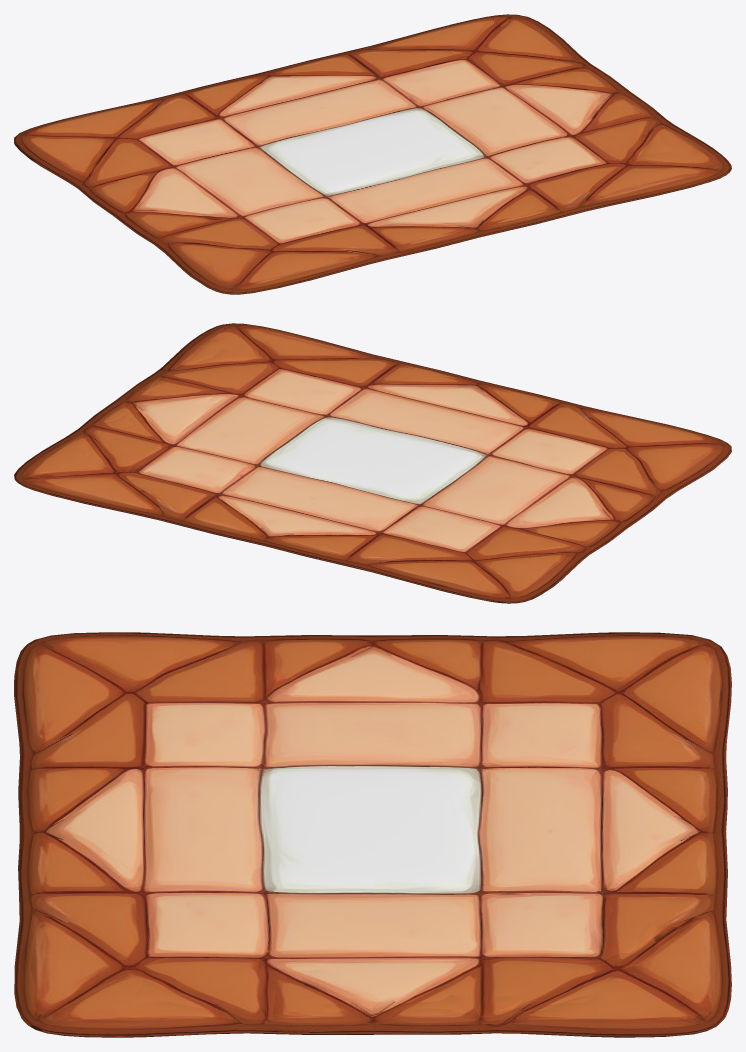
3 views of the same model, one above another, from view 1: azimuth 30°, elevation 25°; view 2: azimuth 150°, elevation 25°; view 3: azimuth 270°, elevation 25° (orthographic). The views are drawn at different scales.
Visible parts, largest first — view 1: node_0; view 2: node_0; view 3: node_0.
Part boxes in pixels (box(x1,y1,x2,y2)): node_0: box(14, 14, 731, 294); node_0: box(14, 323, 731, 603); node_0: box(14, 632, 731, 1037).
Bounding box in the file's own units: 2 × 0.0232 × 1.5.
1 material, 1 textured.
